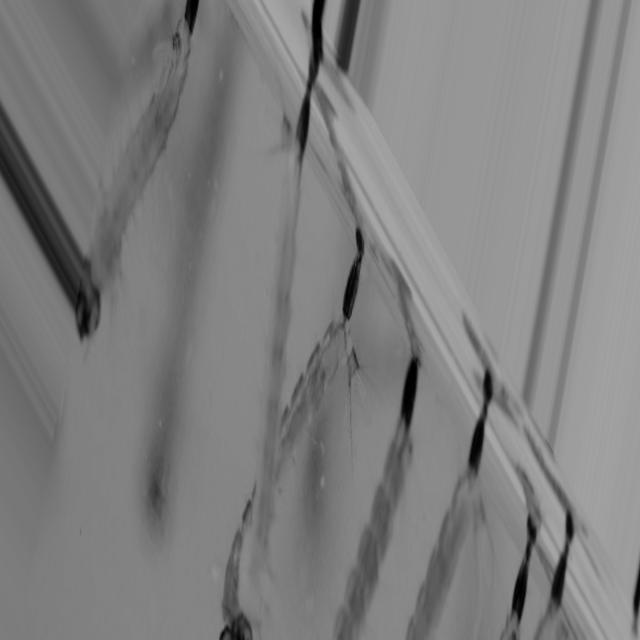larvas: (134, 13, 261, 540), (231, 66, 322, 640), (66, 1, 211, 351), (318, 346, 438, 640), (402, 372, 510, 639), (286, 213, 390, 433), (534, 513, 587, 638), (497, 506, 545, 637)
